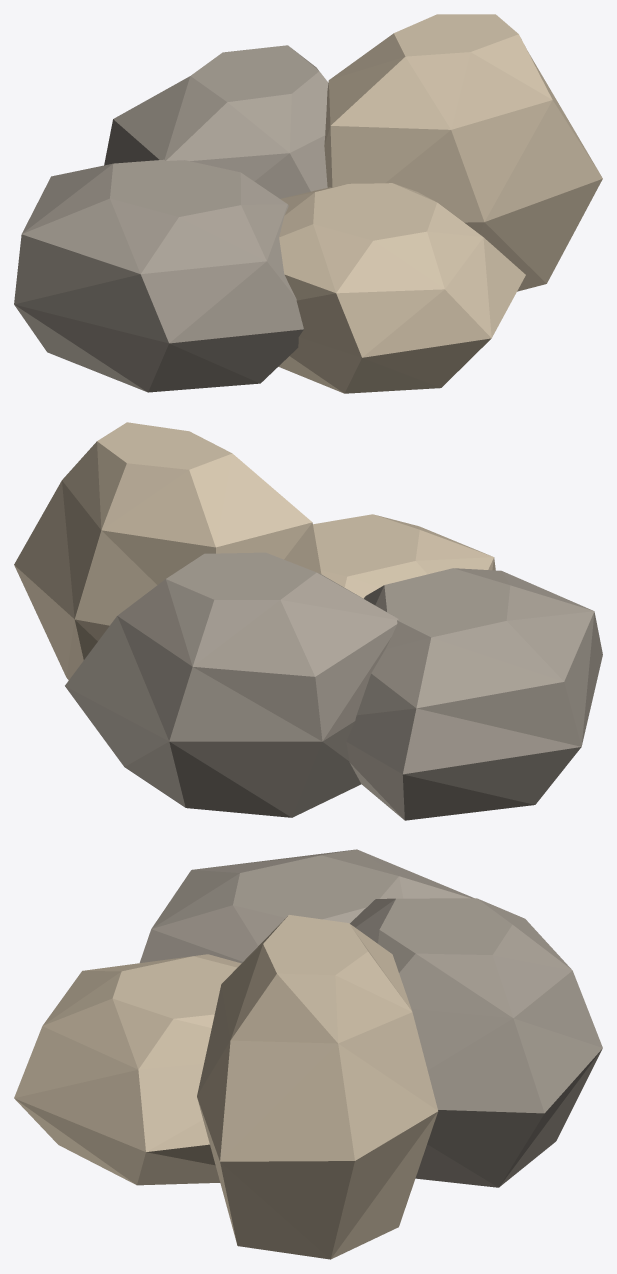
File: rock_cluster_a.fbx
3 renders of one model, top to bottom at view 1: azimuth 30°, elevation 25°; view 2: azimuth 150°, elevation 25°; view 3: azimuth 270°, elevation 25°, orthographic. The views are drawn at different scales.
Parts seen in each view (by area): view 1: rock_cluster_a; view 2: rock_cluster_a; view 3: rock_cluster_a.
Boxes of the visible parts, left/top/right/bottom form: rock_cluster_a: left=14, top=14, right=602, bottom=393; rock_cluster_a: left=14, top=422, right=602, bottom=820; rock_cluster_a: left=14, top=849, right=602, bottom=1259.
Bounding box in the file's own units: 6 × 2.5 × 5.
